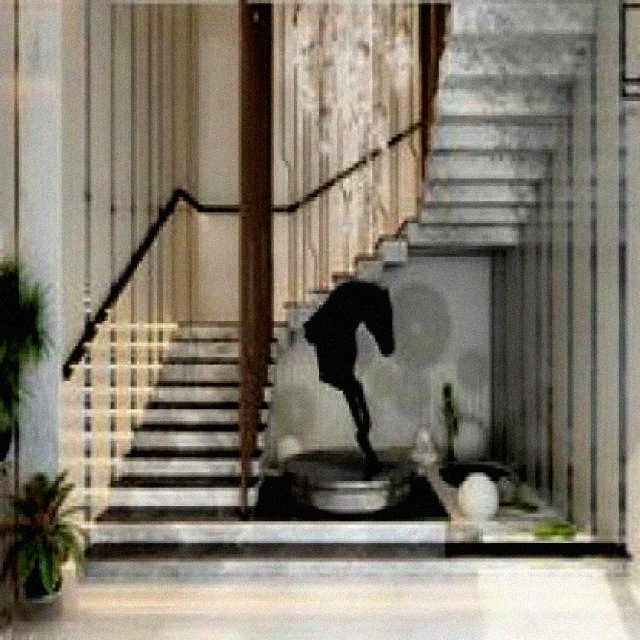stair: (97, 210, 272, 561)
